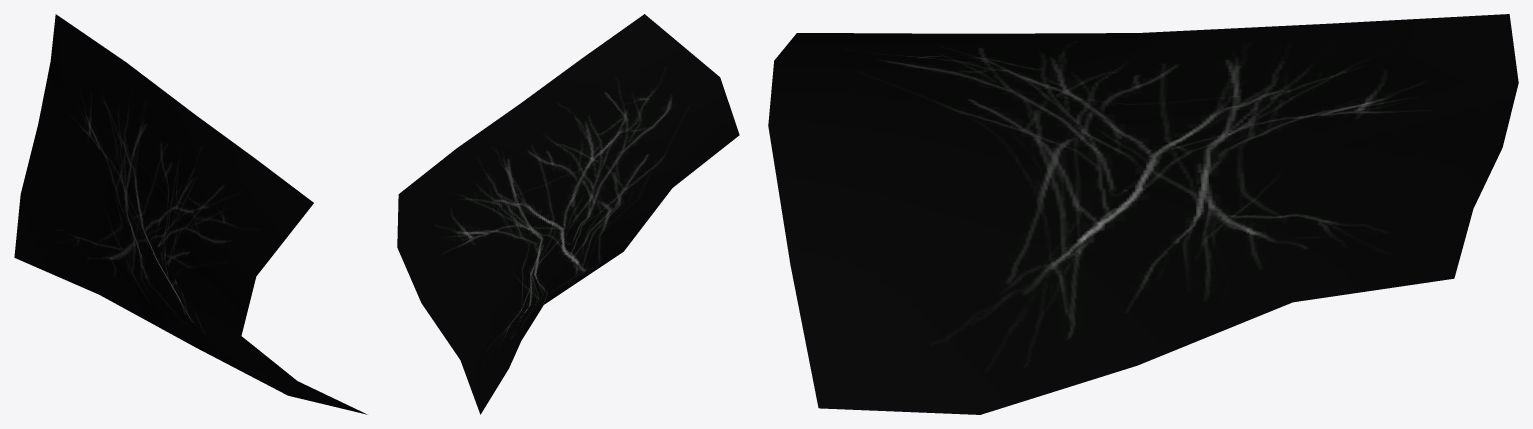
File: MIRKWOOD_SB_WEBS68.fbx
3 renders of one model, left to right at view 1: azimuth 30°, elevation 25°; view 2: azimuth 150°, elevation 25°; view 3: azimuth 270°, elevation 25°, orthographic. The views are drawn at different scales.
Parts seen in each view (by area): view 1: MIRKWOOD_SB_WEBS68; view 2: MIRKWOOD_SB_WEBS68; view 3: MIRKWOOD_SB_WEBS68.
Boxes of the visible parts, x1,y1,x2,y2 form: MIRKWOOD_SB_WEBS68: (14, 14, 367, 414); MIRKWOOD_SB_WEBS68: (397, 14, 739, 414); MIRKWOOD_SB_WEBS68: (768, 14, 1518, 414).
Size of the model in its own units: 26783 by 45569 by 84185.
Materials: 1 (1 with a texture image).
